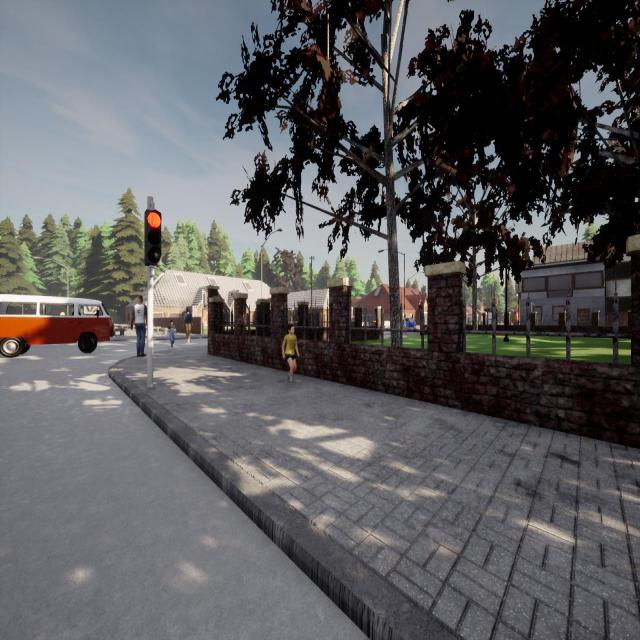Pedestrian: (130, 294, 146, 356), (282, 324, 299, 382), (183, 308, 192, 343), (167, 319, 176, 349)
Vehicle: (0, 293, 113, 357), (351, 315, 374, 328), (402, 318, 417, 328)
traffic_light: (144, 209, 162, 266), (204, 294, 208, 307), (418, 302, 421, 310)
